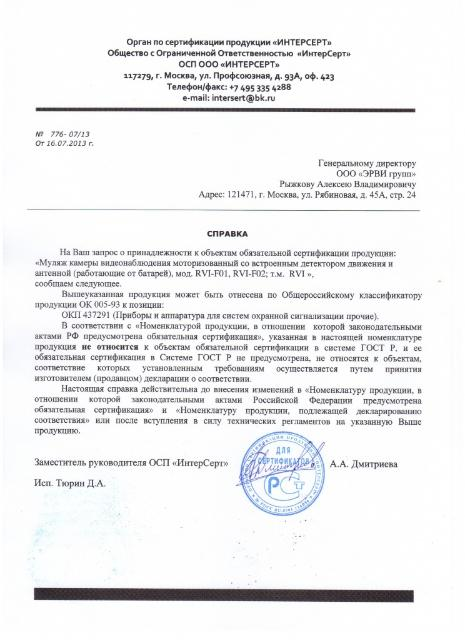stamp: (240, 431, 324, 517)
